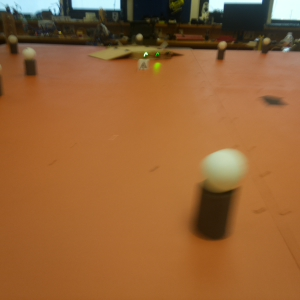obstacle: (194, 145, 248, 237), (23, 49, 37, 77), (257, 37, 274, 57), (5, 35, 19, 56), (218, 41, 229, 63)
side: (130, 48, 172, 58)
slope: (94, 47, 129, 61)
